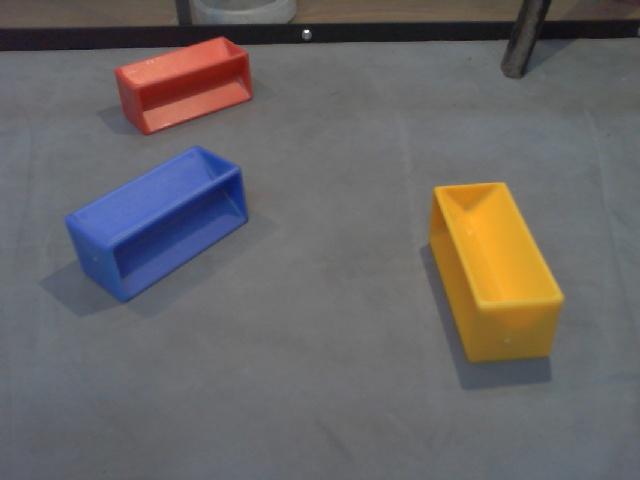BlueSample: (61, 141, 250, 301)
RedSample: (113, 36, 255, 138)
YellowSample: (422, 176, 569, 365)
